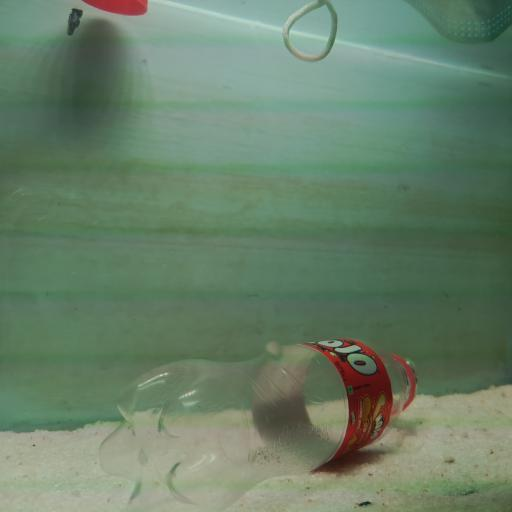bottle_cap: (84, 0, 148, 17)
mask: (281, 0, 512, 61)
plastic_bottle: (112, 337, 420, 512)
